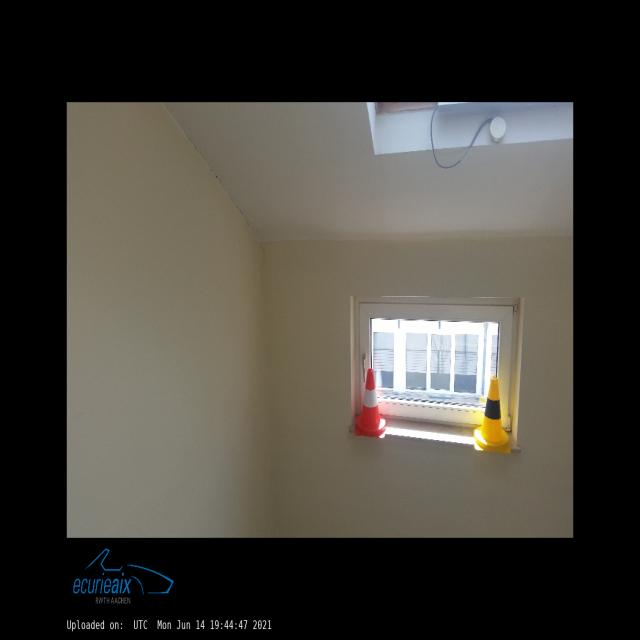orange_cone: (355, 368, 387, 438)
yellow_cone: (473, 377, 511, 454)
